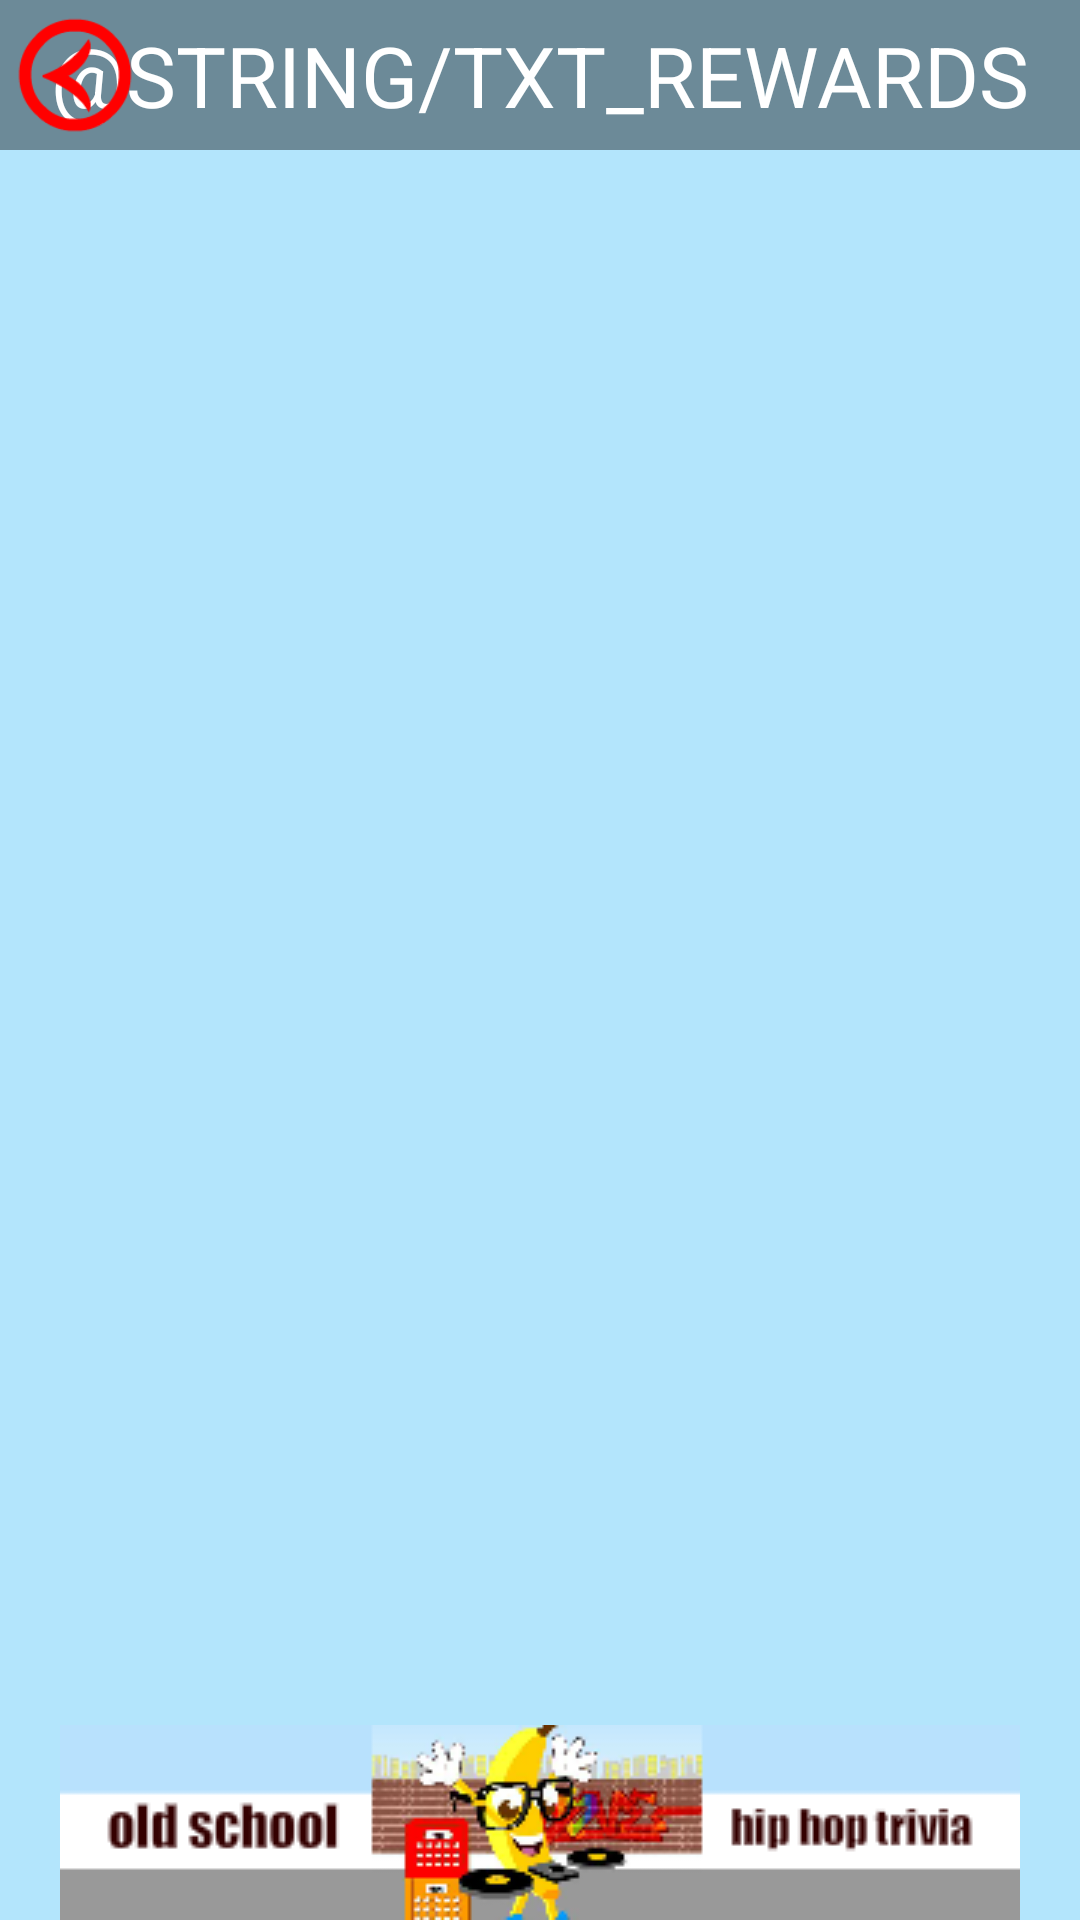

Icon click points for this 1080px x 1920px phone screenshot, format (x,y):
arrow back: (84,75)
